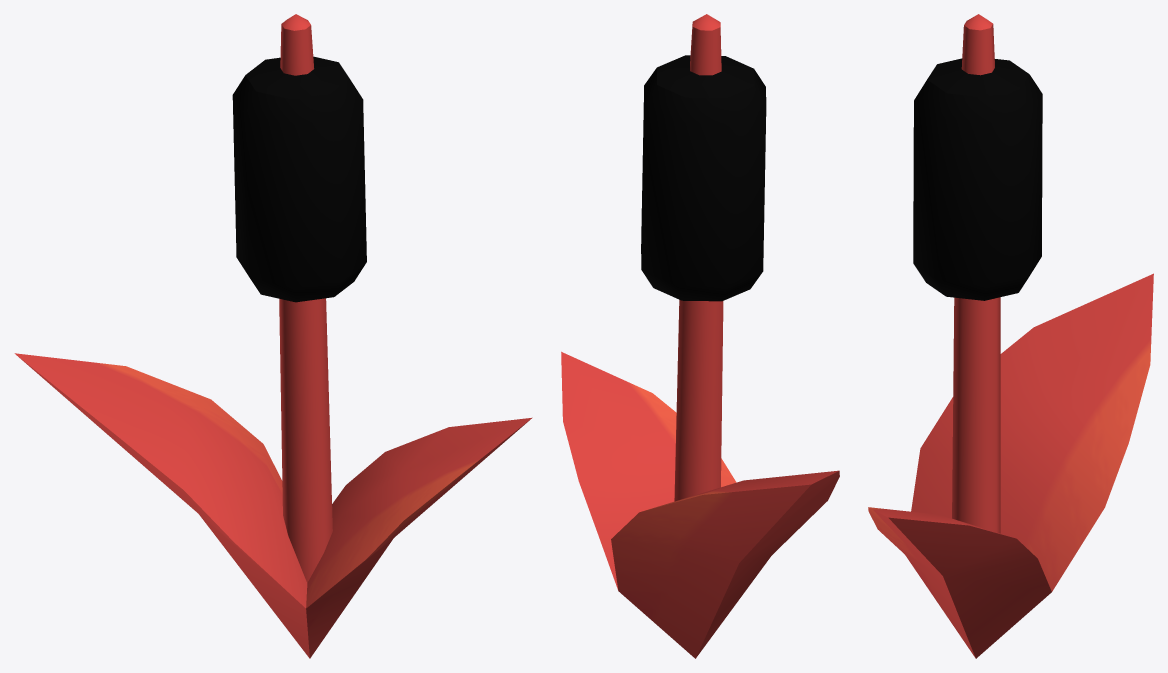
File: bush.glb
3 renders of one model, left to right at view 1: azimuth 30°, elevation 25°; view 2: azimuth 150°, elevation 25°; view 3: azimuth 270°, elevation 25°, orthographic.
Visible parts, largest first — view 1: waterplant_B; view 2: waterplant_B; view 3: waterplant_B.
Boxes of the visible parts, x1,y1,x2,y2 form: waterplant_B: (14, 14, 532, 658); waterplant_B: (561, 14, 839, 658); waterplant_B: (868, 14, 1153, 658).
Bounding box in the file's own units: 0.158 × 0.2542 × 0.1031.
1 material, 1 textured.
